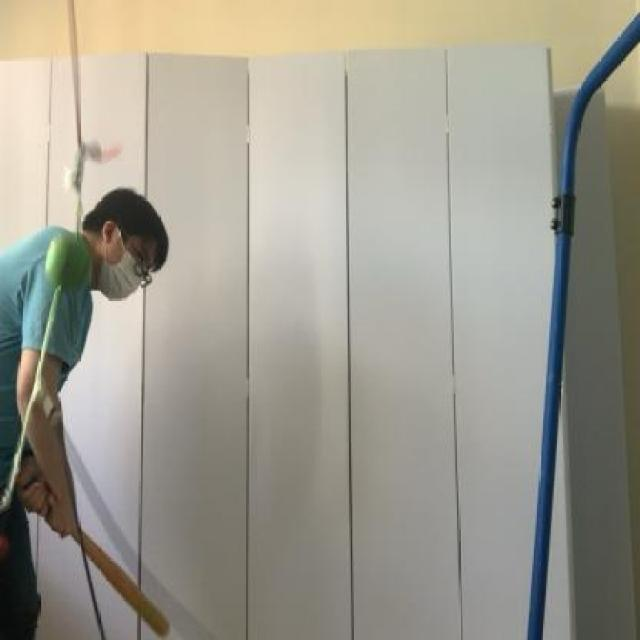baseball: (44, 225, 102, 300)
